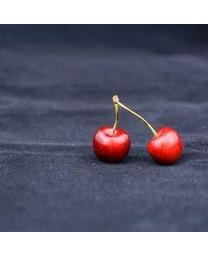cherry: (146, 126, 184, 166), (93, 125, 131, 162)
